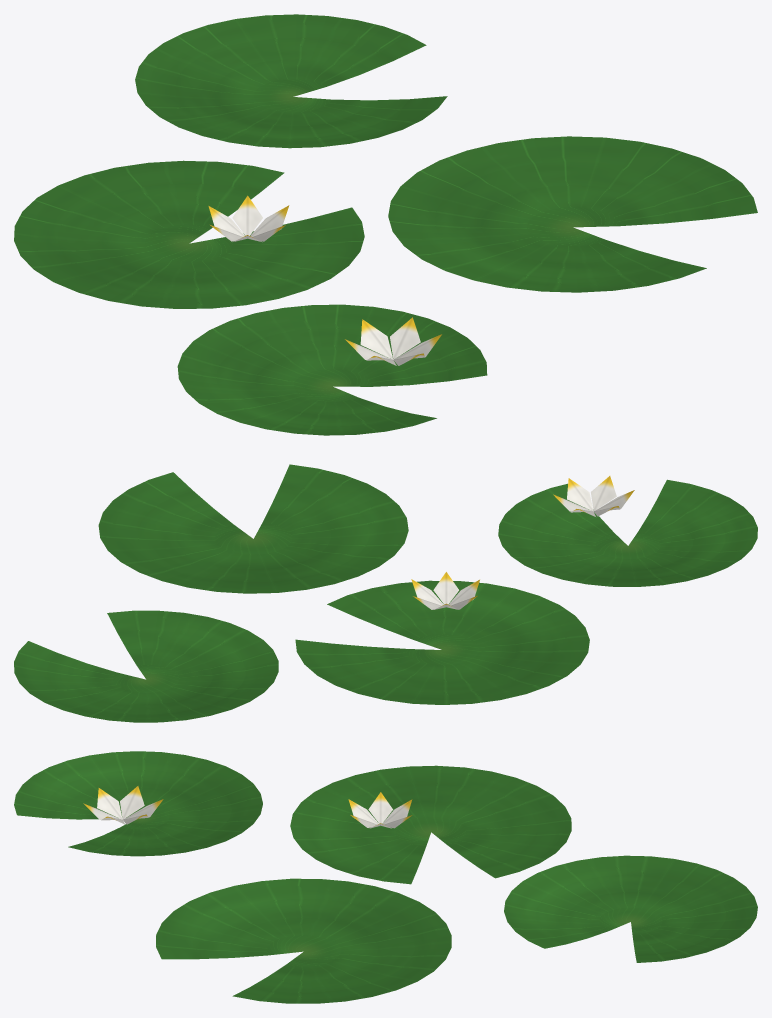
File: water_lily_v1.glb
3 views of the same model, one above another, from view 1: azimuth 30°, elevation 25°; view 2: azimuth 150°, elevation 25°; view 3: azimuth 270°, elevation 25° (orthographic). The views are drawn at different scales.
Parts seen in each view (by area): view 1: water_lily_v1; view 2: water_lily_v1; view 3: water_lily_v1.
Part boxes in pixels (bbox=[...]): water_lily_v1: bbox=[14, 14, 757, 435]; water_lily_v1: bbox=[14, 464, 757, 722]; water_lily_v1: bbox=[14, 751, 757, 1003].
Bounding box in the file's own units: 0.6239 × 0.042 × 0.7856.
Materials: 2 (2 with a texture image).
